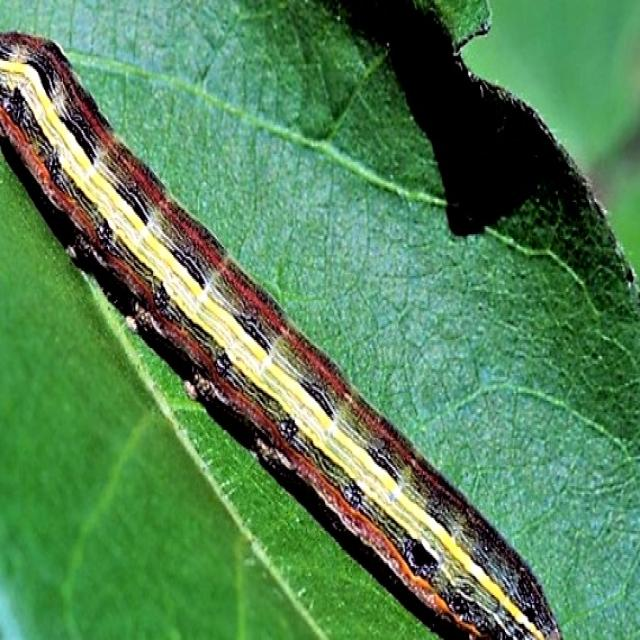armyworm: (0, 24, 568, 638)
